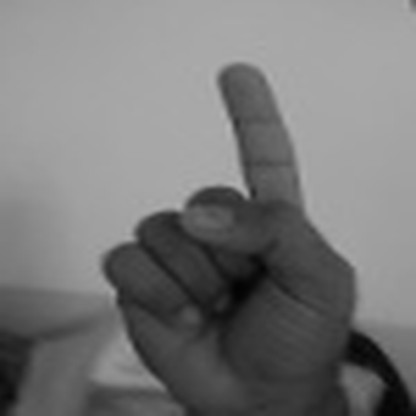d: (94, 60, 365, 401)
